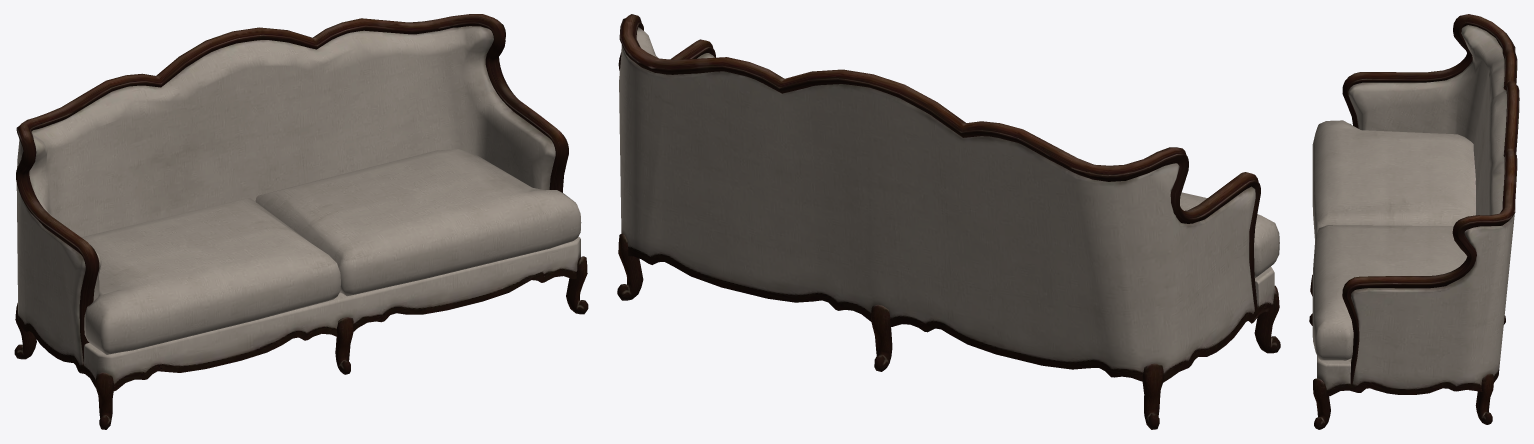
The model's file is sofa_01.glb.
The picture shows the model from 3 angles, left to right: view 1: azimuth 30°, elevation 25°; view 2: azimuth 150°, elevation 25°; view 3: azimuth 270°, elevation 25°; orthographic projection. The views are drawn at different scales.
Visible parts, largest first — view 1: Sofa_01; view 2: Sofa_01; view 3: Sofa_01.
Boxes of the visible parts, x1,y1,x2,y2 form: Sofa_01: (14,14,588,429); Sofa_01: (617,14,1280,429); Sofa_01: (1309,14,1519,429).
Size of the model in its own units: 1.57 by 0.7966 by 0.658.
Materials: 1 (1 with a texture image).
